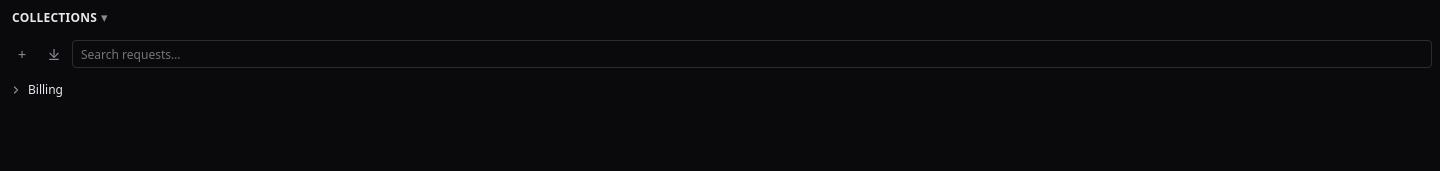
Scenario: SidebarPanel › filters the tree through the debounced search
Type "inv" into the search field labelled "Search requests".
click(752, 54); type("inv")  # box [72,40,1432,68]
Wait 100 ms
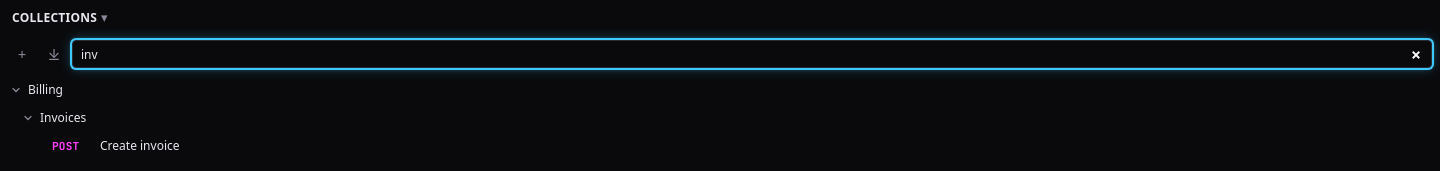
Now the list items read "Billing", "Invoices", "POSTCreate invoice", in this order, box [10,81,63,98]; [22,109,86,126]; [52,137,180,154]
Type "zzz" into the search field named "Search requests".
click(752, 54); type("zzz")  # box [72,40,1432,68]
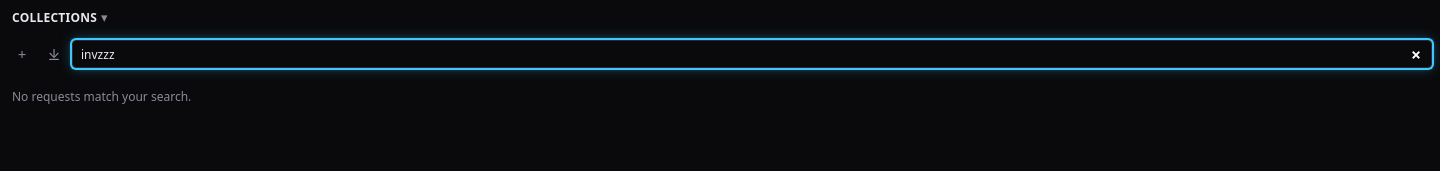
Now the text "No requests match your search." is shown, box [12,88,191,105]
